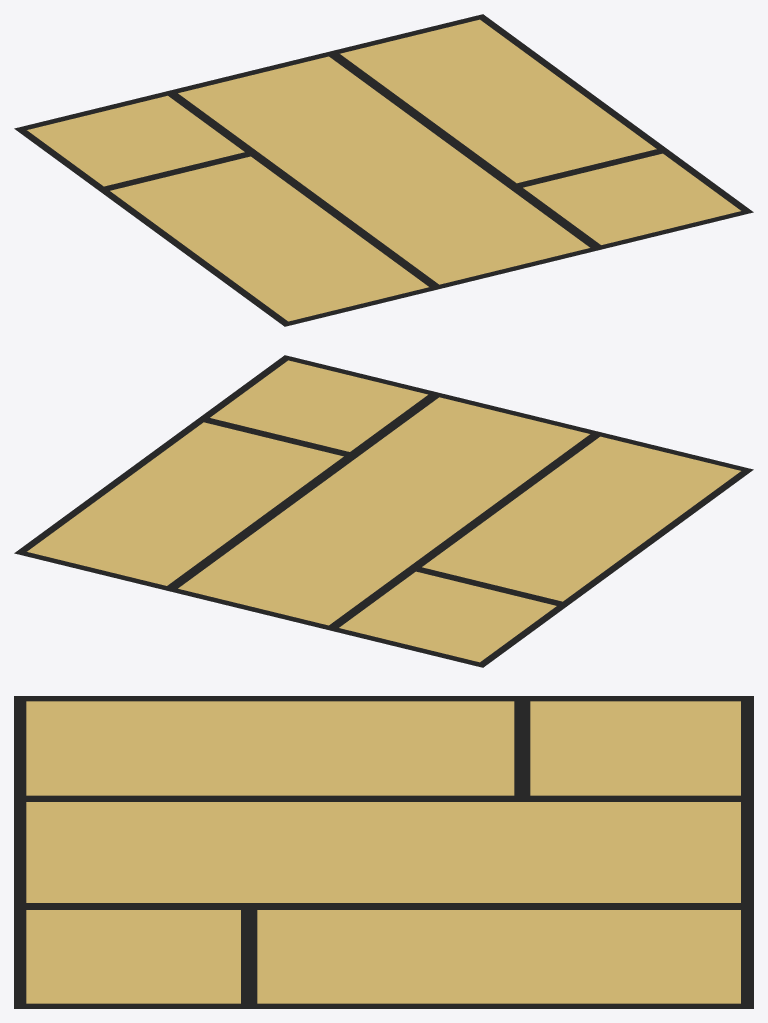
The model's file is Floor.fbx.
3 renders of one model, top to bottom at view 1: azimuth 30°, elevation 25°; view 2: azimuth 150°, elevation 25°; view 3: azimuth 270°, elevation 25°, orthographic. The views are drawn at different scales.
Parts seen in each view (by area): view 1: Plane; view 2: Plane; view 3: Plane.
Part boxes in pixels (x1,y1,x2,y2): Plane: [14, 14, 753, 326]; Plane: [14, 355, 753, 667]; Plane: [14, 696, 753, 1008].
Bounding box in the file's own units: 600 × 0 × 600.
